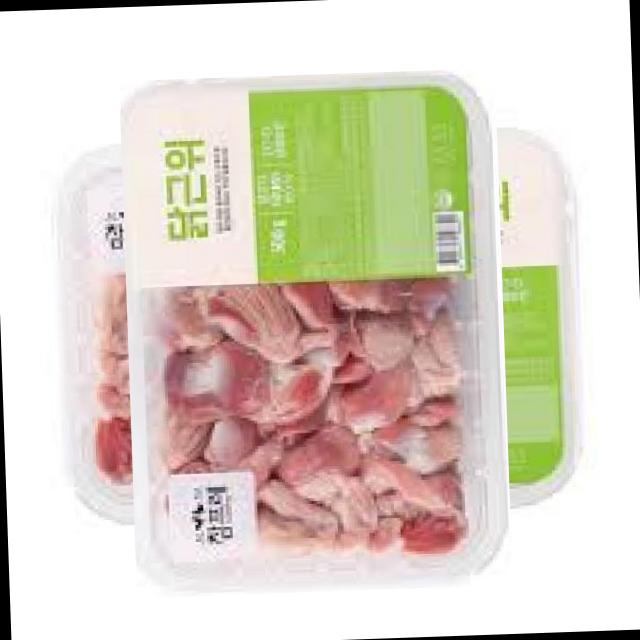chicken: (84, 101, 546, 564)
